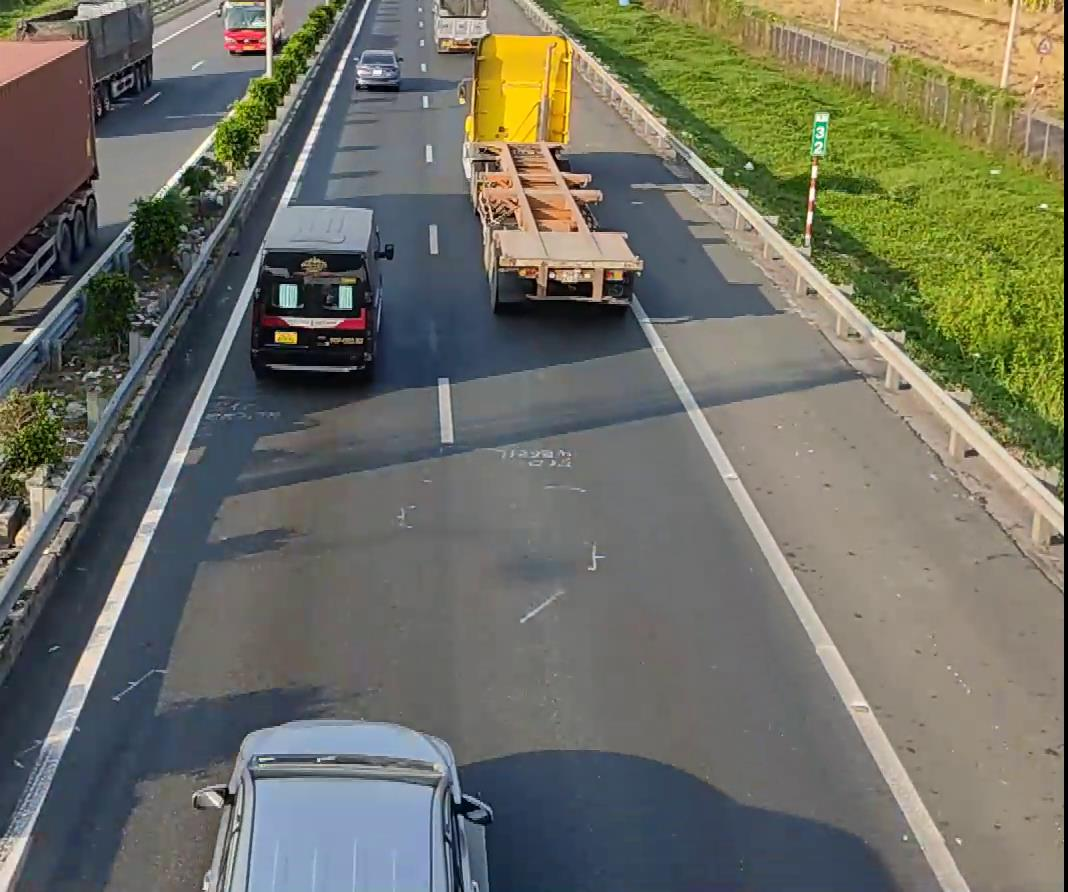car: (187, 715, 492, 891), (247, 217, 393, 379)
container: (461, 27, 641, 313), (0, 33, 110, 327)
